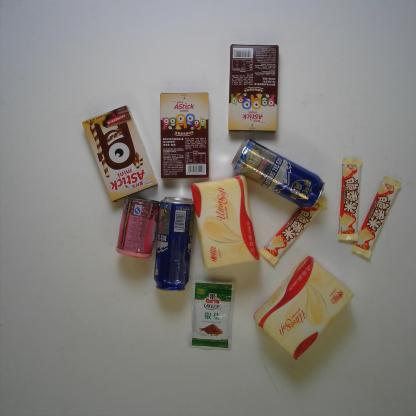Alcohol: (230, 138, 325, 209), (150, 195, 196, 292)
Canned Food: (113, 195, 160, 260)
Chocolate: (258, 198, 328, 267), (349, 175, 403, 259), (338, 158, 364, 242)
Dessert: (82, 105, 159, 202), (228, 43, 280, 135), (159, 92, 211, 180)
Seasoner: (187, 278, 236, 352)
Tissue: (252, 254, 354, 361), (191, 175, 261, 270)
